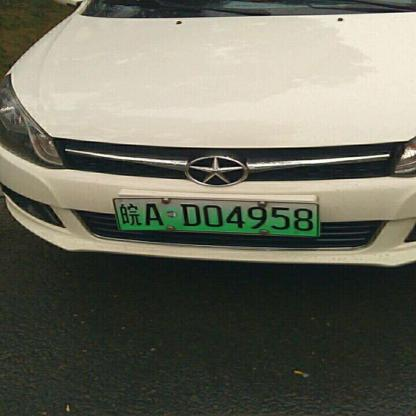lp: (115, 200, 320, 233)
